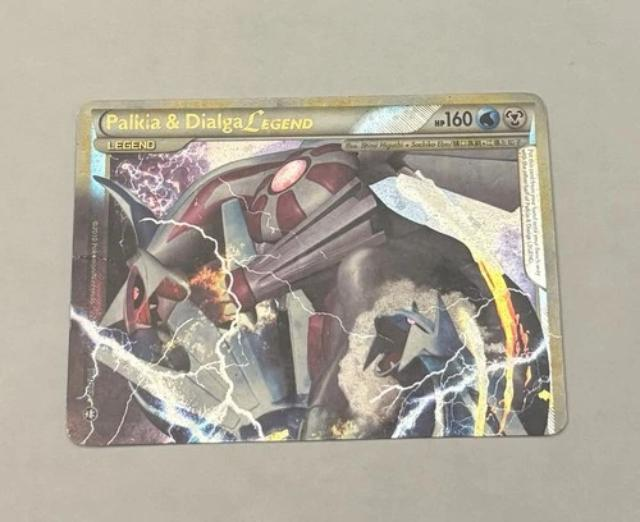Card: (61, 89, 573, 450)
Name: (99, 107, 322, 138)
